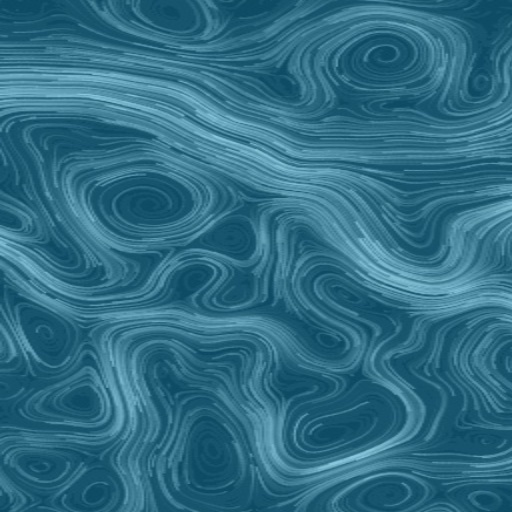eddy: (86, 167, 199, 242), (331, 19, 431, 93), (172, 407, 251, 496), (12, 299, 80, 371), (291, 404, 382, 456), (34, 373, 108, 425), (350, 471, 432, 511), (7, 444, 73, 486), (323, 281, 367, 308), (80, 476, 114, 508), (465, 488, 507, 512), (179, 266, 210, 293), (466, 72, 497, 98), (309, 331, 340, 351)
